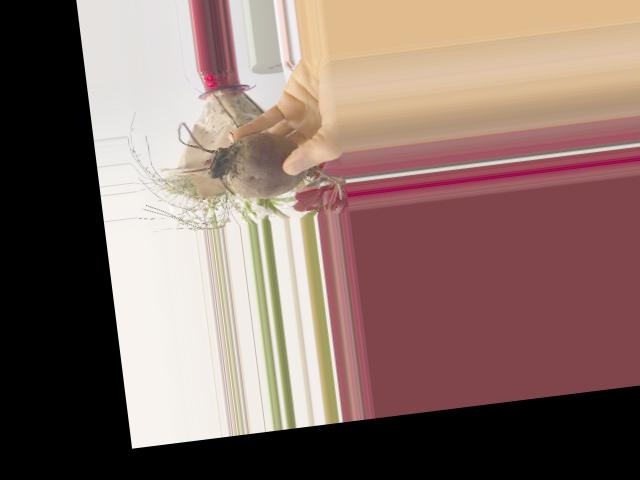beet: (175, 104, 341, 217)
